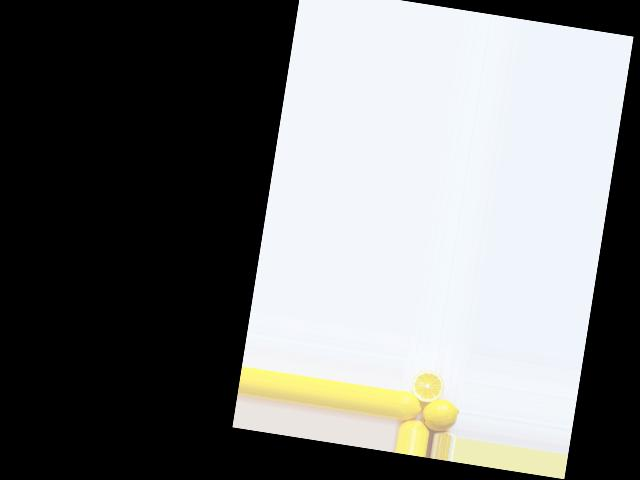lemon: (396, 390, 423, 421)
